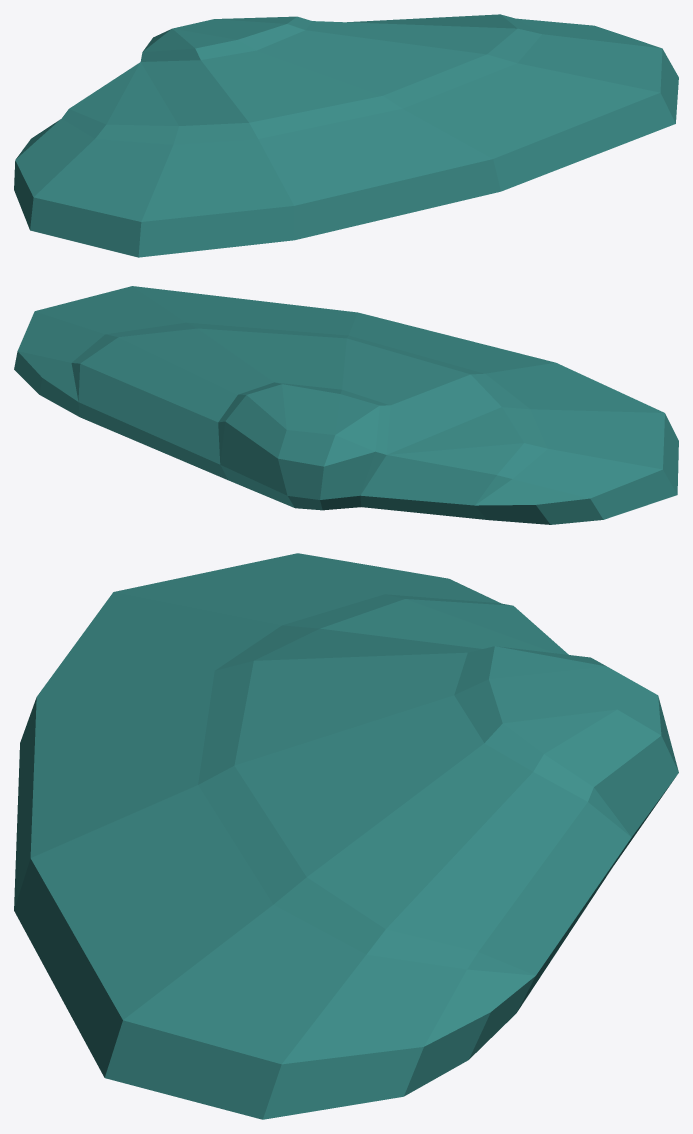
File: SM_Sea_Shell_Sunrise_Venus_Half_A.fbx
3 views of the same model, one above another, from view 1: azimuth 30°, elevation 25°; view 2: azimuth 150°, elevation 25°; view 3: azimuth 270°, elevation 25° (orthographic). The views are drawn at different scales.
Visible parts, largest first — view 1: sea-shell-sunrise-venus-half-a; view 2: sea-shell-sunrise-venus-half-a; view 3: sea-shell-sunrise-venus-half-a.
Part boxes in pixels (x1=…): sea-shell-sunrise-venus-half-a: x1=14, y1=14, x2=678, y2=257; sea-shell-sunrise-venus-half-a: x1=14, y1=286, x2=678, y2=524; sea-shell-sunrise-venus-half-a: x1=14, y1=553, x2=678, y2=1119.
Size of the model in its own units: 0.1665 by 0.0197 by 0.0886.
